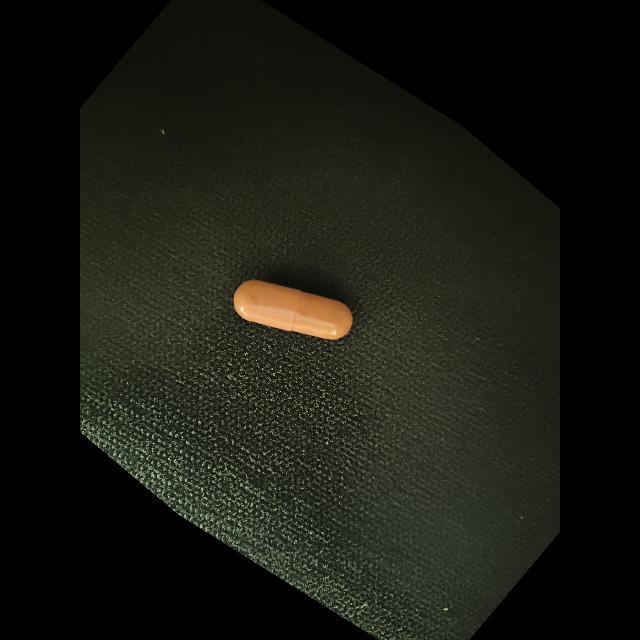Intact Capsule: (233, 280, 353, 340)
